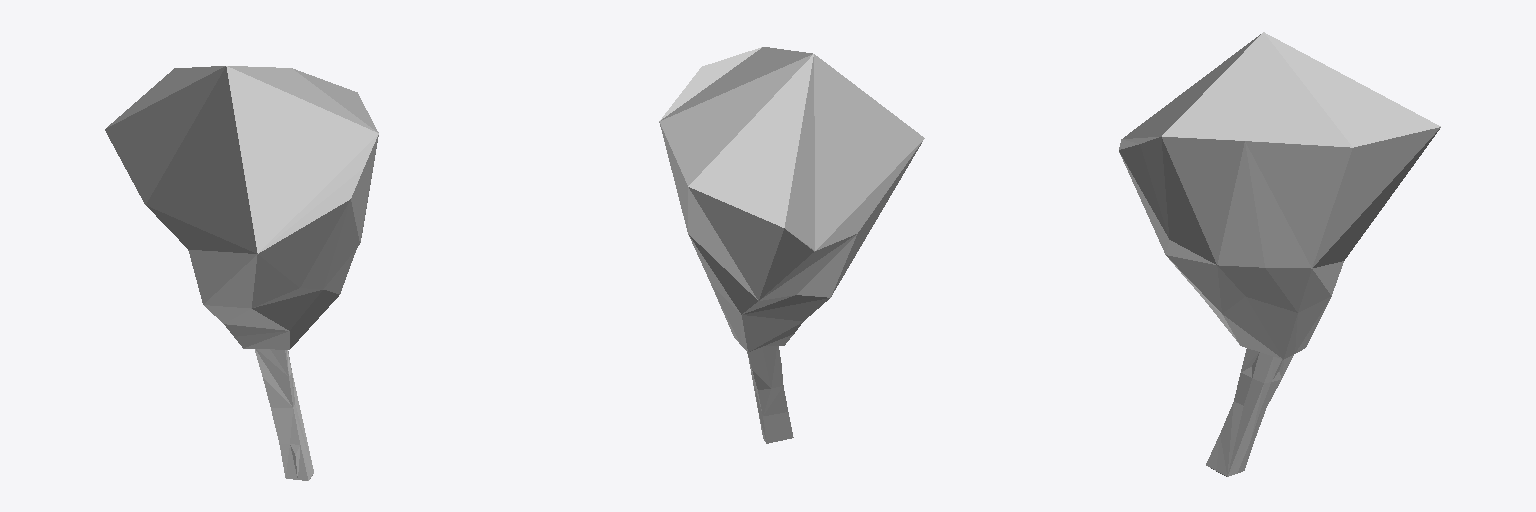
File: Lreg.obj
3 views of the same model, side by side, from view 1: azimuth 30°, elevation 25°; view 2: azimuth 150°, elevation 25°; view 3: azimuth 270°, elevation 25° (orthographic).
Parts seen in each view (by area): view 1: polySurface494 polySurface492, polySurface498 polySurface18; view 2: polySurface494 polySurface492, polySurface498 polySurface18; view 3: polySurface494 polySurface492, polySurface498 polySurface18.
Boxes of the visible parts, <box> form: polySurface494 polySurface492: <box>105,66,378,349</box>; polySurface498 polySurface18: <box>255,349,313,480</box>; polySurface494 polySurface492: <box>659,47,924,351</box>; polySurface498 polySurface18: <box>747,346,793,443</box>; polySurface494 polySurface492: <box>1119,32,1440,359</box>; polySurface498 polySurface18: <box>1206,348,1293,476</box>.
Size of the model in its own units: 13.69 by 32.01 by 22.8.